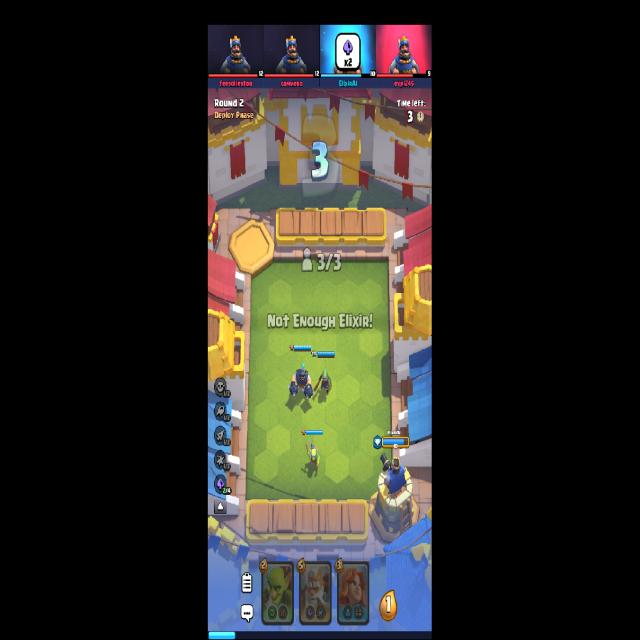bandit: (314, 367, 332, 396)
card_goblin: (261, 561, 294, 624)
card_monk: (299, 560, 332, 626)
card_valkyrie: (337, 560, 370, 626)
mega_knight: (289, 363, 313, 400)
spear_goblin: (304, 440, 321, 472)
